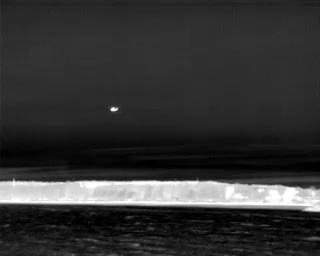HELICOPTER: (106, 102, 122, 117)
